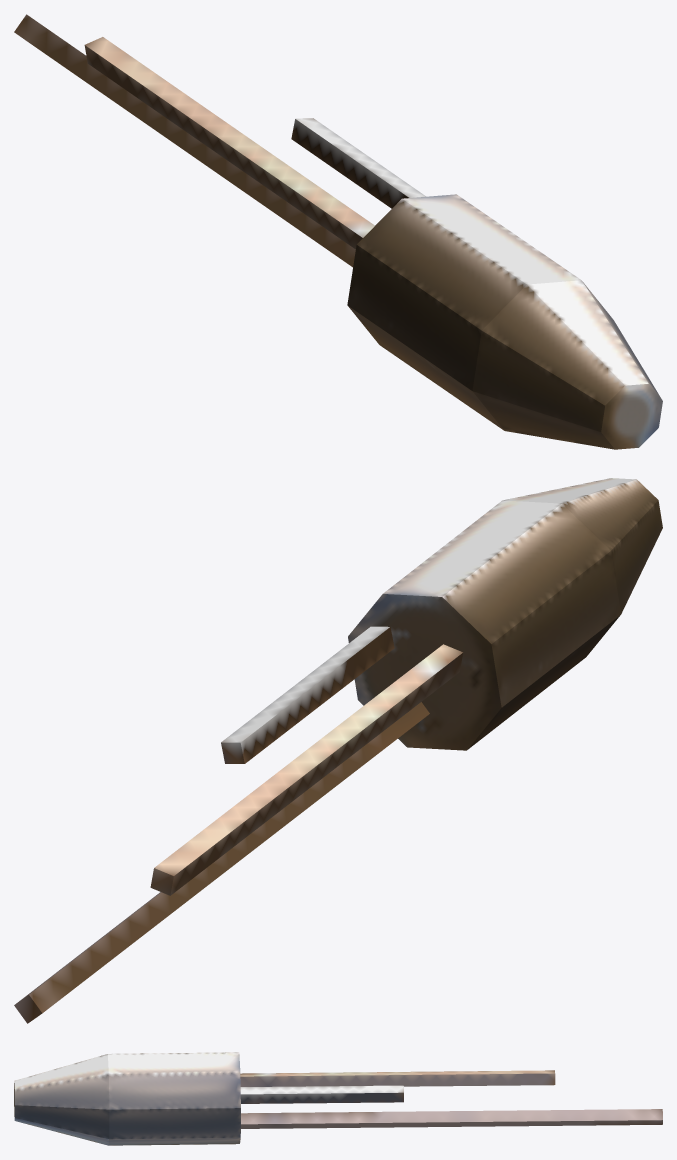
3 views of the same model, one above another, from view 1: azimuth 30°, elevation 25°; view 2: azimuth 150°, elevation 25°; view 3: azimuth 270°, elevation 25° (orthographic). The views are drawn at different scales.
Visible parts, largest first — view 1: Bala_Cylinder.003, Estela_3_Cube.008, Estela_1_Cube.006, Estela_2_Cube.007; view 2: Bala_Cylinder.003, Estela_3_Cube.008, Estela_1_Cube.006, Estela_2_Cube.007; view 3: Bala_Cylinder.003, Estela_1_Cube.006, Estela_3_Cube.008, Estela_2_Cube.007.
Part boxes in pixels (x1=…): Bala_Cylinder.003: x1=347, y1=194, x2=662, y2=449; Estela_3_Cube.008: x1=84, y1=37, x2=374, y2=249; Estela_1_Cube.006: x1=14, y1=14, x2=355, y2=267; Estela_2_Cube.007: x1=291, y1=118, x2=425, y2=208; Bala_Cylinder.003: x1=348, y1=478, x2=662, y2=750; Estela_3_Cube.008: x1=150, y1=644, x2=463, y2=895; Estela_1_Cube.006: x1=14, y1=702, x2=429, y2=1023; Estela_2_Cube.007: x1=221, y1=626, x2=394, y2=763; Bala_Cylinder.003: x1=14, y1=1052, x2=240, y2=1145; Estela_1_Cube.006: x1=241, y1=1109, x2=662, y2=1128; Estela_3_Cube.008: x1=240, y1=1070, x2=555, y2=1086; Estela_2_Cube.007: x1=240, y1=1085, x2=403, y2=1103.
Size of what is drawn, in the model's own units: 0.2844 by 0.2735 by 1.94.
